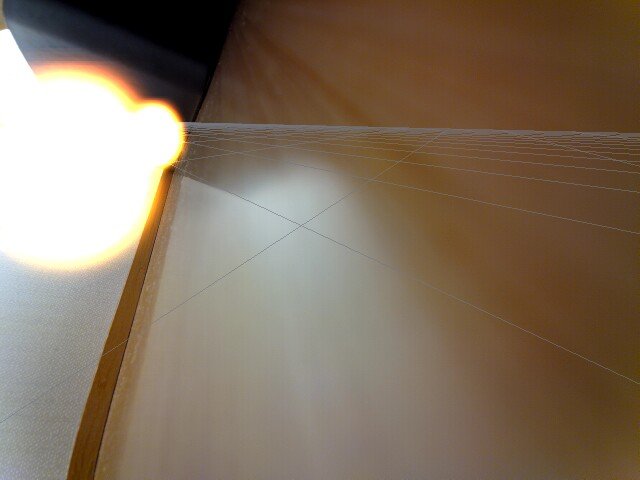firebig: (0, 36, 142, 274)
